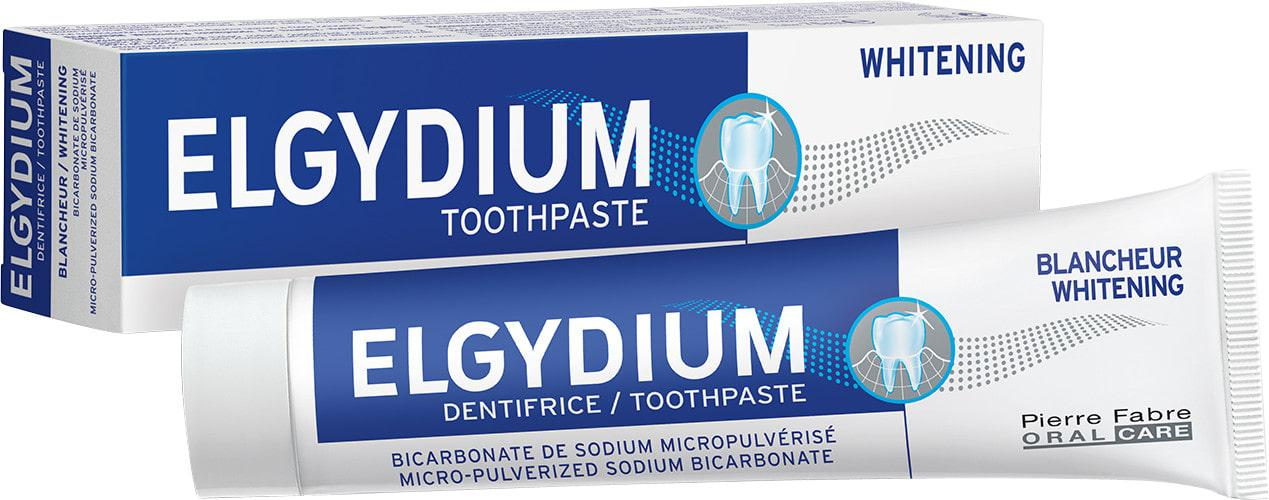toothpaste: (172, 164, 1260, 500), (0, 0, 1042, 340)
